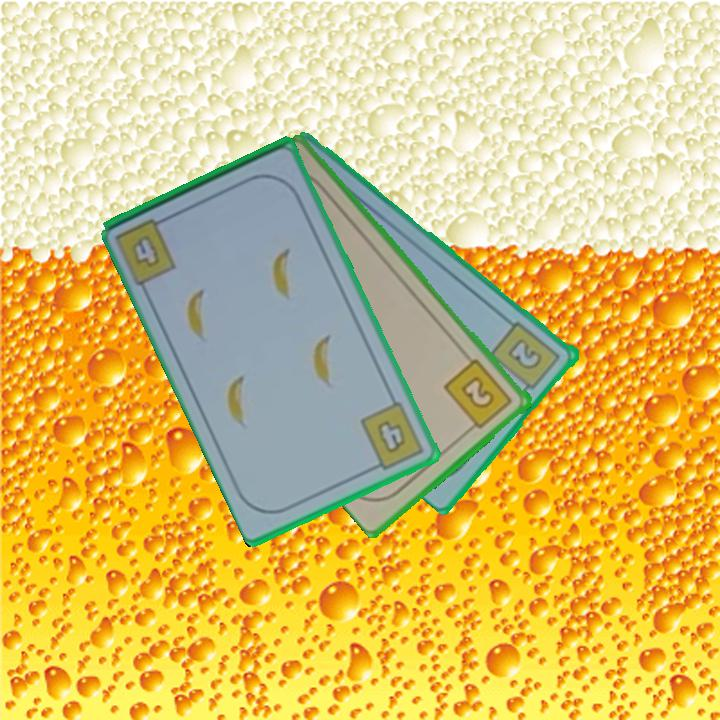2b: (487, 318, 564, 398), (441, 355, 516, 436)
4b: (357, 398, 427, 475), (132, 235, 160, 267)
